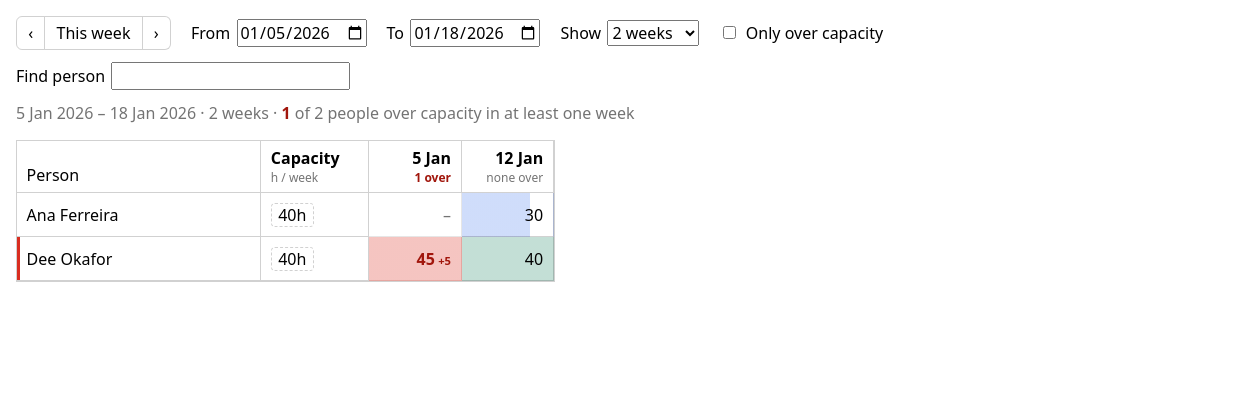
Test case: does not claim a save failed when the answer was lost
Click the button named "Weekly hours for Dee Okafor" at (292, 259), box [271,247,314,271]
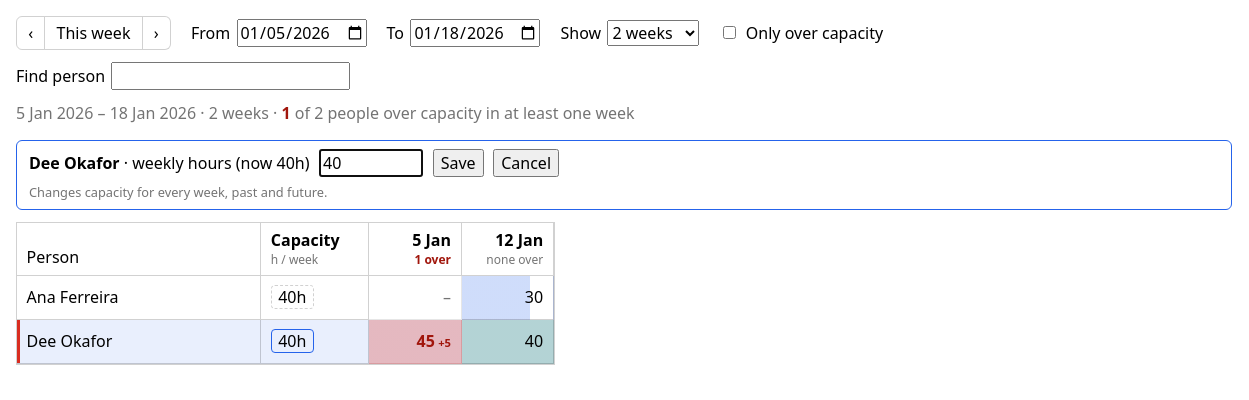
Replace the text in the field named "Weekly hours for Dee Okafor" with "50" at (371, 163), box [319,149,423,177]
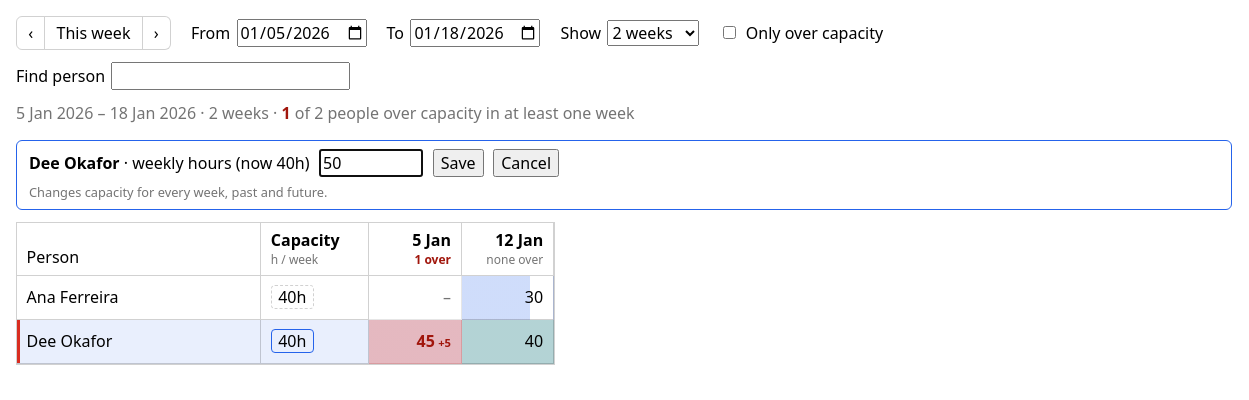
Click the button "Save" at (458, 163), box [433,149,484,177]
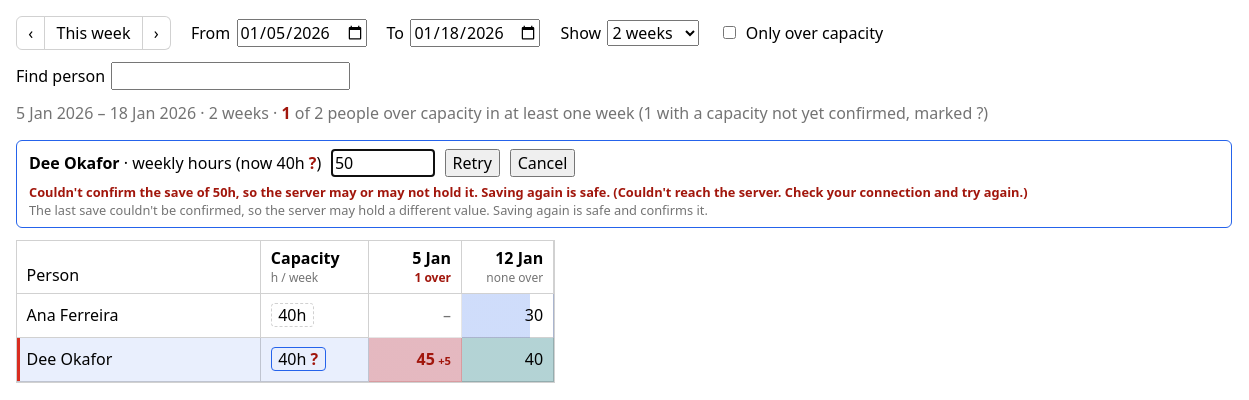
expect the message does not show "Not saved": met, box [29,183,1028,201]
expect the message shows "Couldn't confirm the save": met, box [29,183,1028,201]
expect the button "Retry" is shown: met, box [444,149,500,177]
